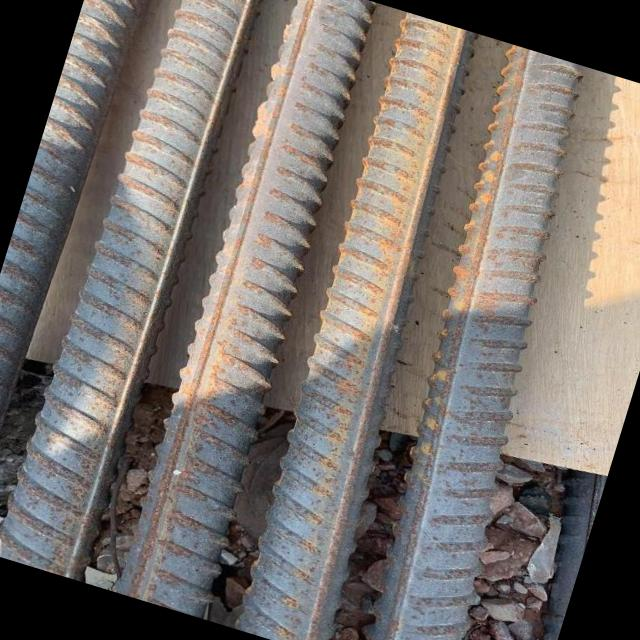ribbed bar: (313, 40, 640, 640), (207, 8, 516, 640), (108, 0, 402, 622), (0, 0, 277, 584), (0, 0, 171, 552)
